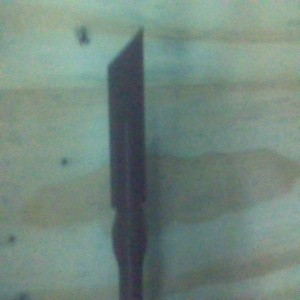cutter: (105, 23, 150, 300)
